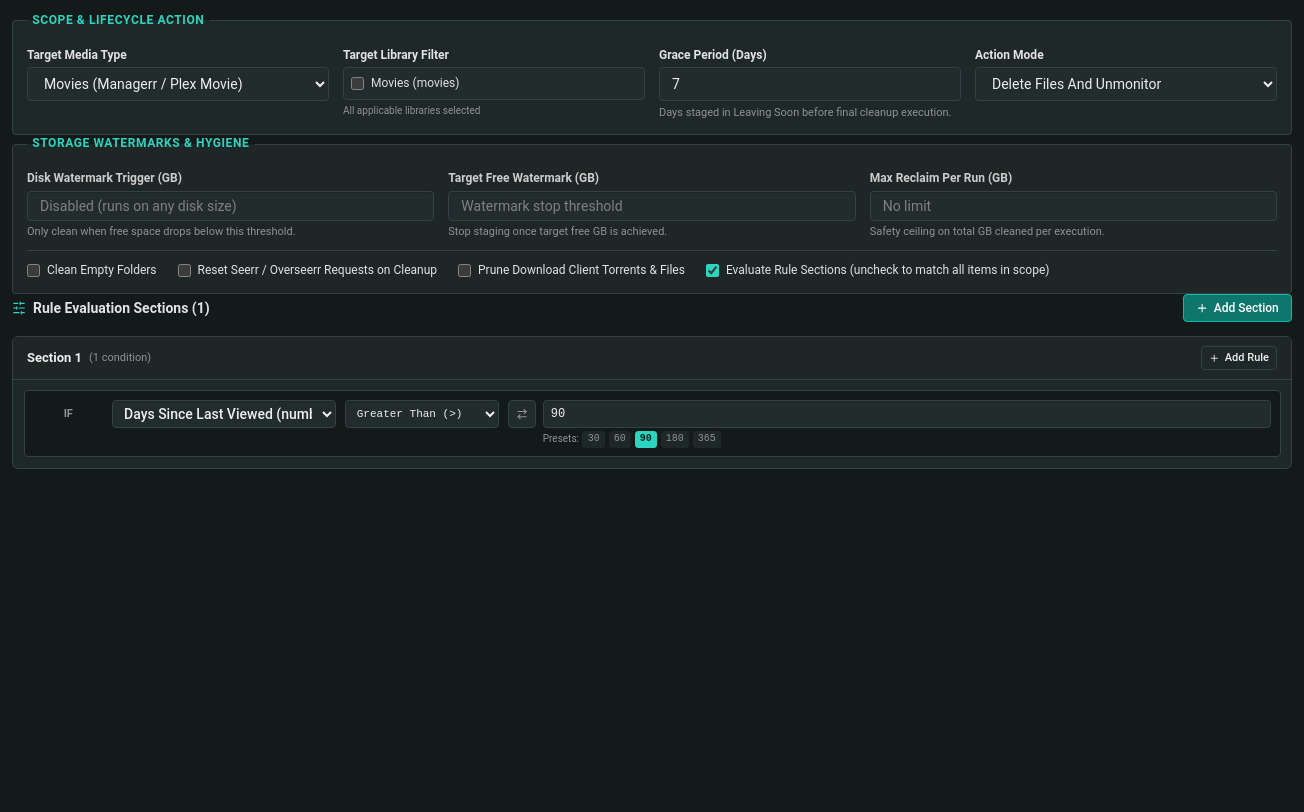
Test: Cleanerr Frontend Components & Routing › CleanerrRuleBuilder › adds sections and conditions, toggles property comparison, selects downgrade_profile, and excludes disallowed action modes
Check: the text "Rule Evaluation Sections (1)" is shown, box x1=33 y1=298 x2=210 y2=318
Check: the text "Section 1" is shown, box x1=27 y1=349 x2=82 y2=367
# Add a second condition to Section 1
Click the button "Add Rule" at (1239,358), box x1=1201 y1=346 x2=1277 y2=370
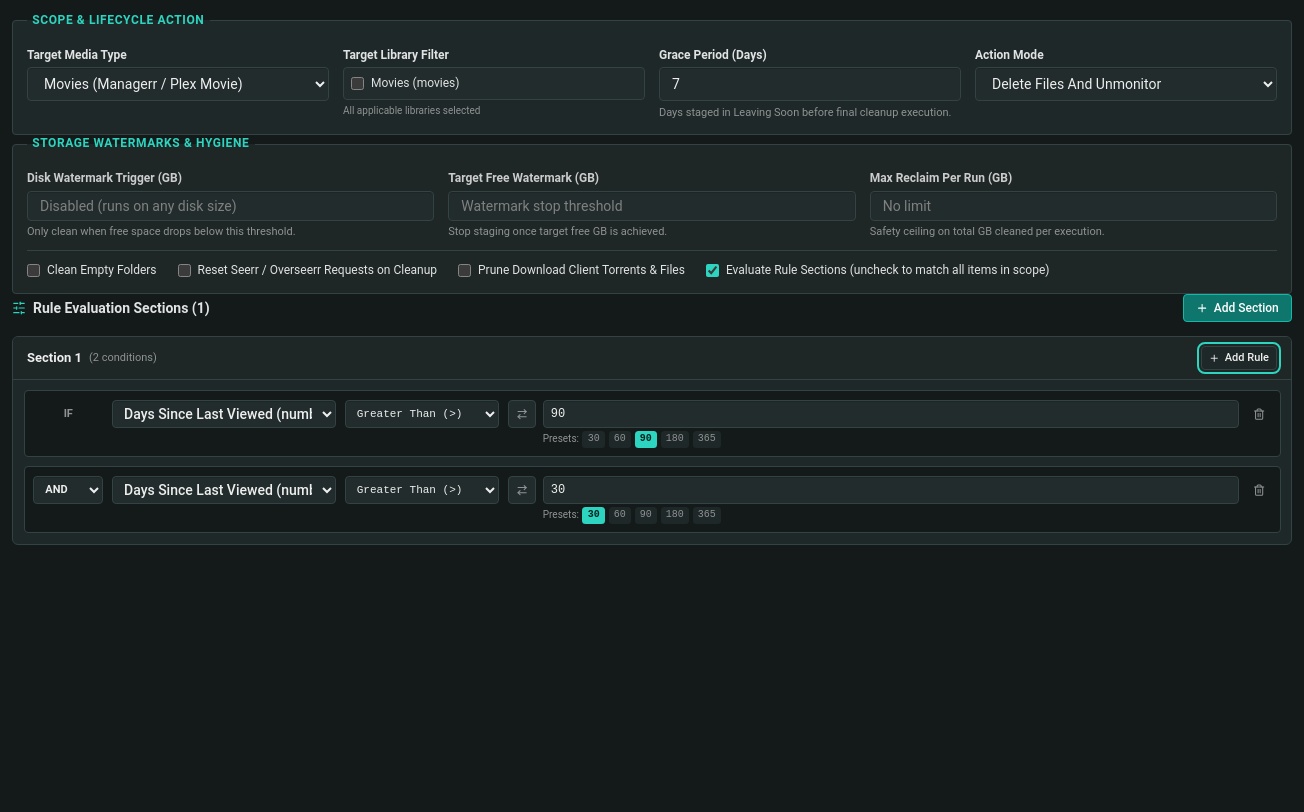
Check: the text "(2 conditions)" is shown, box x1=89 y1=350 x2=157 y2=366
# Add a second section
Click the button "Add Section" at (1237,308), box x1=1183 y1=294 x2=1292 y2=322
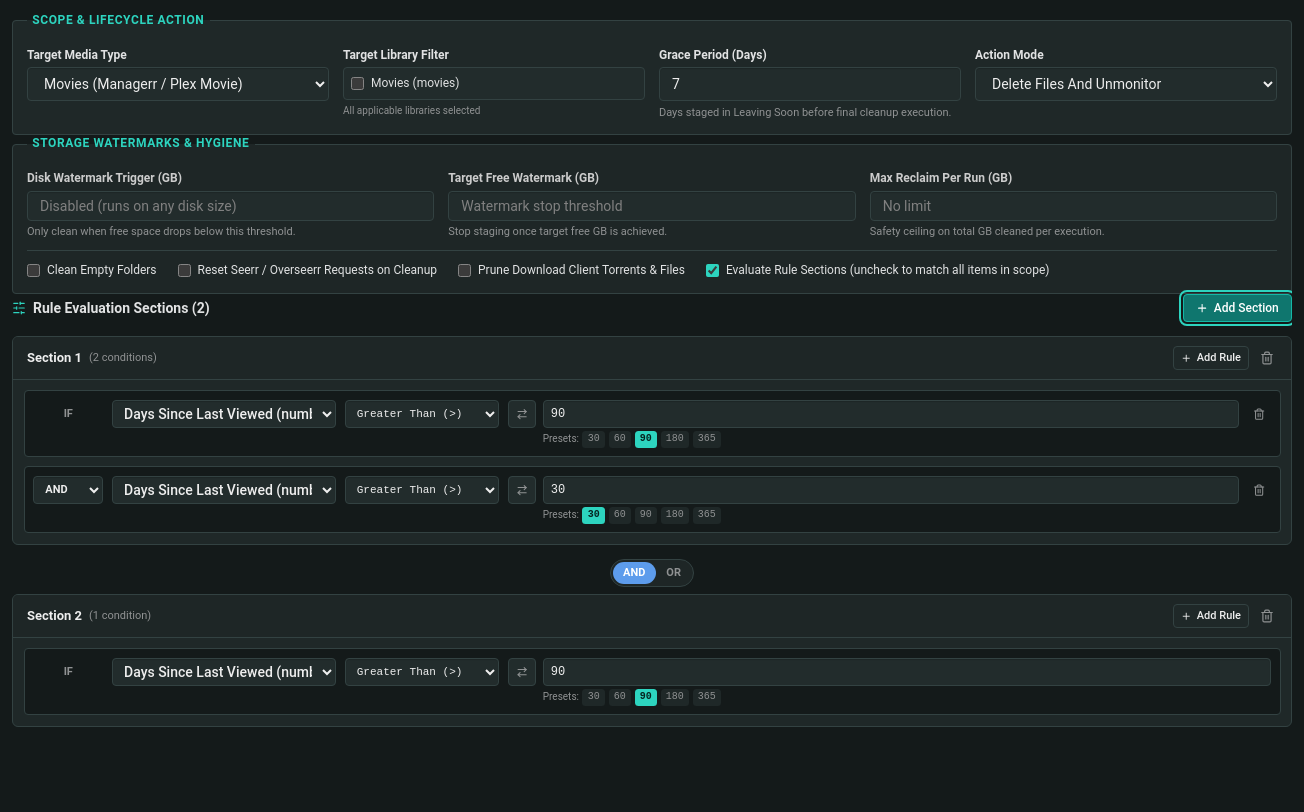
Check: the text "Rule Evaluation Sections (2)" is shown, box x1=33 y1=298 x2=210 y2=318
Check: the text "Section 2" is shown, box x1=27 y1=607 x2=82 y2=625
Click the 1st button named "Switch to compare against another property" at (522,414), box x1=508 y1=400 x2=536 y2=428
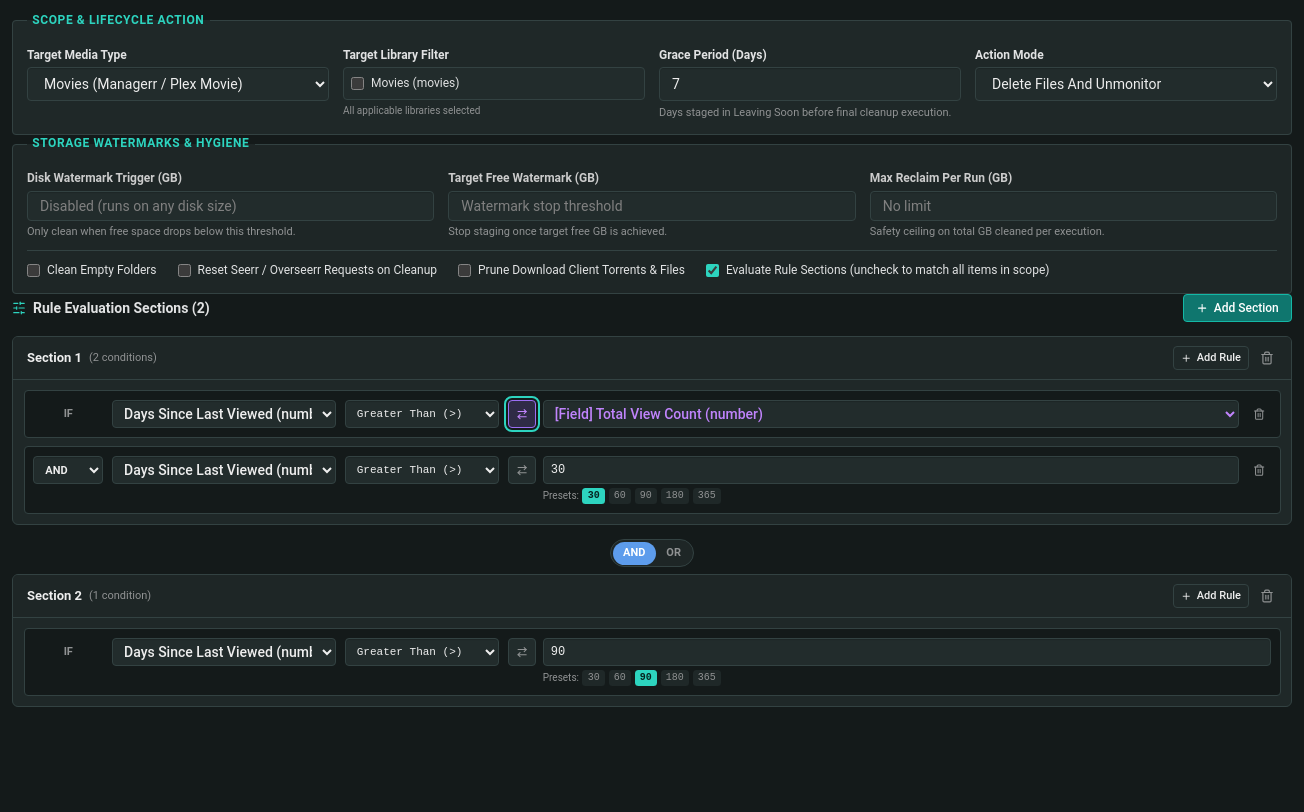
Check: the 3rd dropdown named "Comparison target field" is shown, box x1=543 y1=400 x2=1239 y2=428
# Select downgrade_profile and verify target downgrade quality profile selector appears
Select "Downgrade Profile" in the dropdown labelled "Action Mode" at (1126,84), box x1=975 y1=67 x2=1277 y2=101
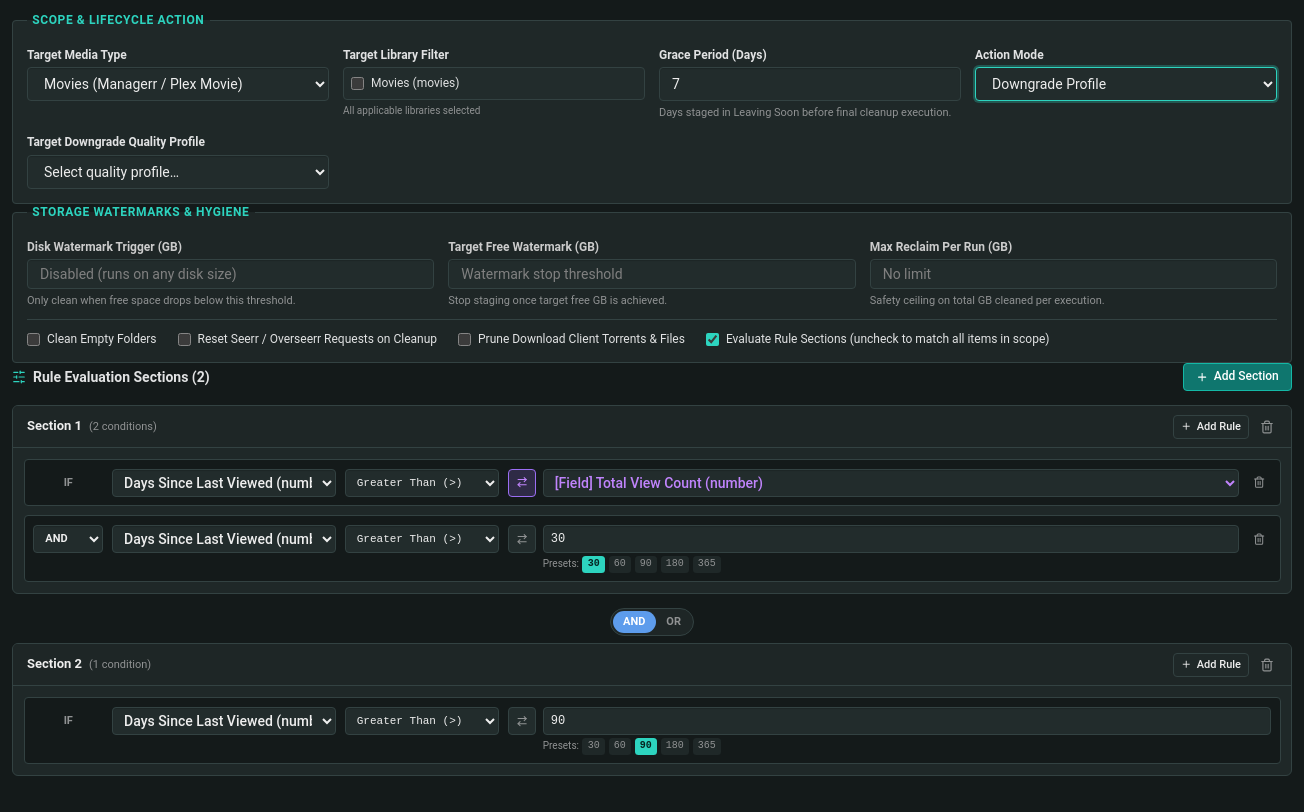
Check: the dropdown labelled "Target Downgrade Quality Profile" is shown, box x1=27 y1=155 x2=329 y2=189
